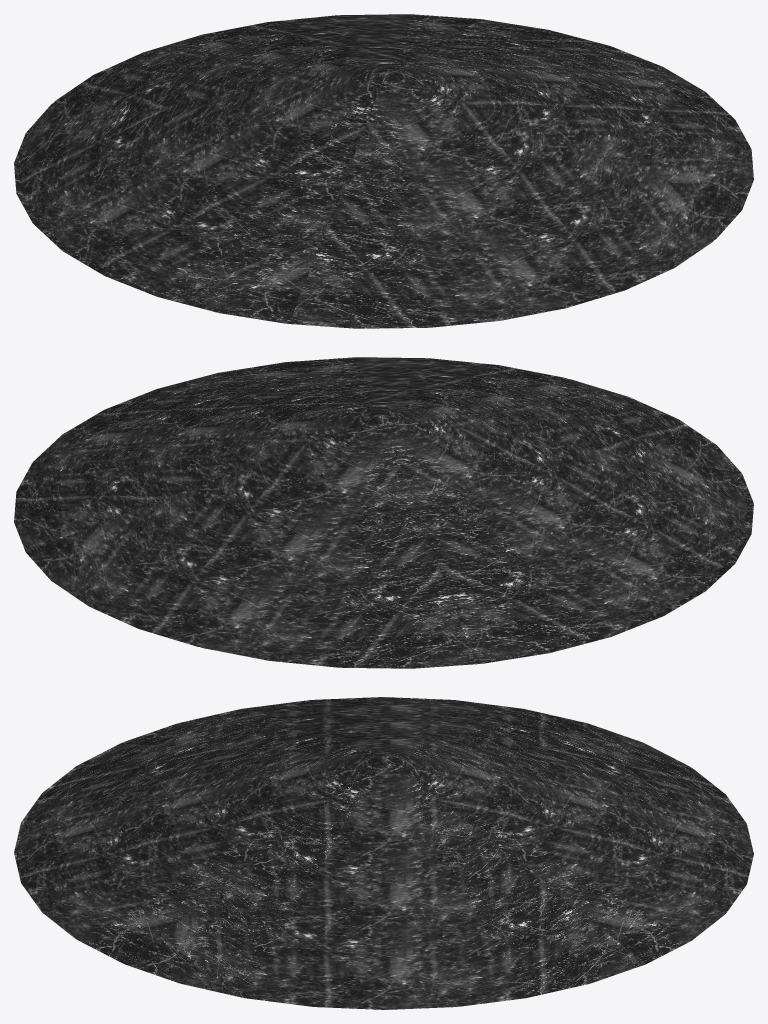
The model's file is ufo-v1.glb.
The picture shows the model from 3 angles, top to bottom: view 1: azimuth 30°, elevation 25°; view 2: azimuth 150°, elevation 25°; view 3: azimuth 270°, elevation 25°; orthographic projection.
Visible parts, largest first — view 1: Cone.001; view 2: Cone.001; view 3: Cone.001.
Part boxes in pixels (x1=…): Cone.001: x1=14, y1=14, x2=753, y2=328; Cone.001: x1=14, y1=357, x2=753, y2=668; Cone.001: x1=14, y1=697, x2=753, y2=1009.
Bounding box in the file's own units: 4.84 × 1.41 × 4.82.
1 material, 1 textured.
